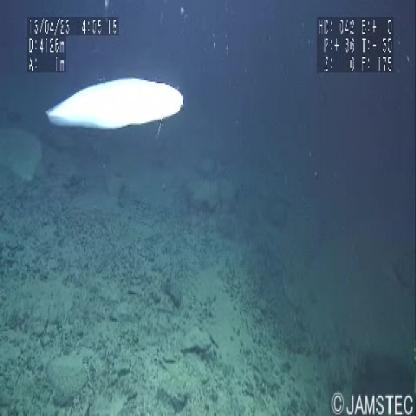Bio: (41, 71, 187, 152)
